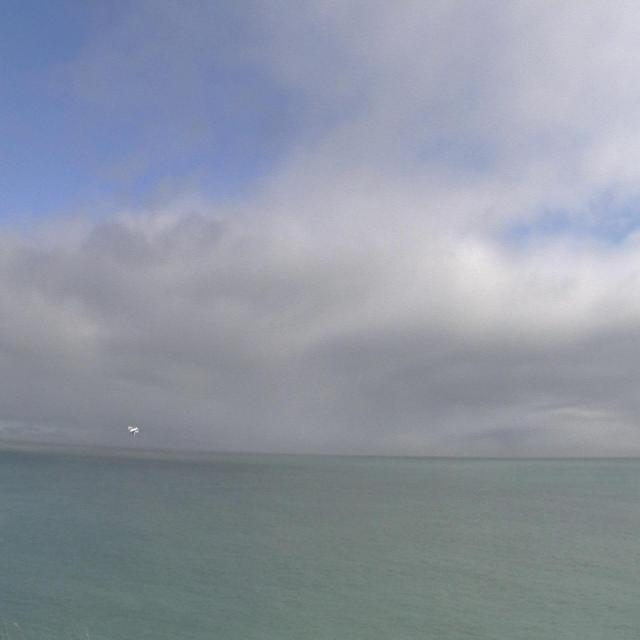drone: (125, 419, 144, 436)
